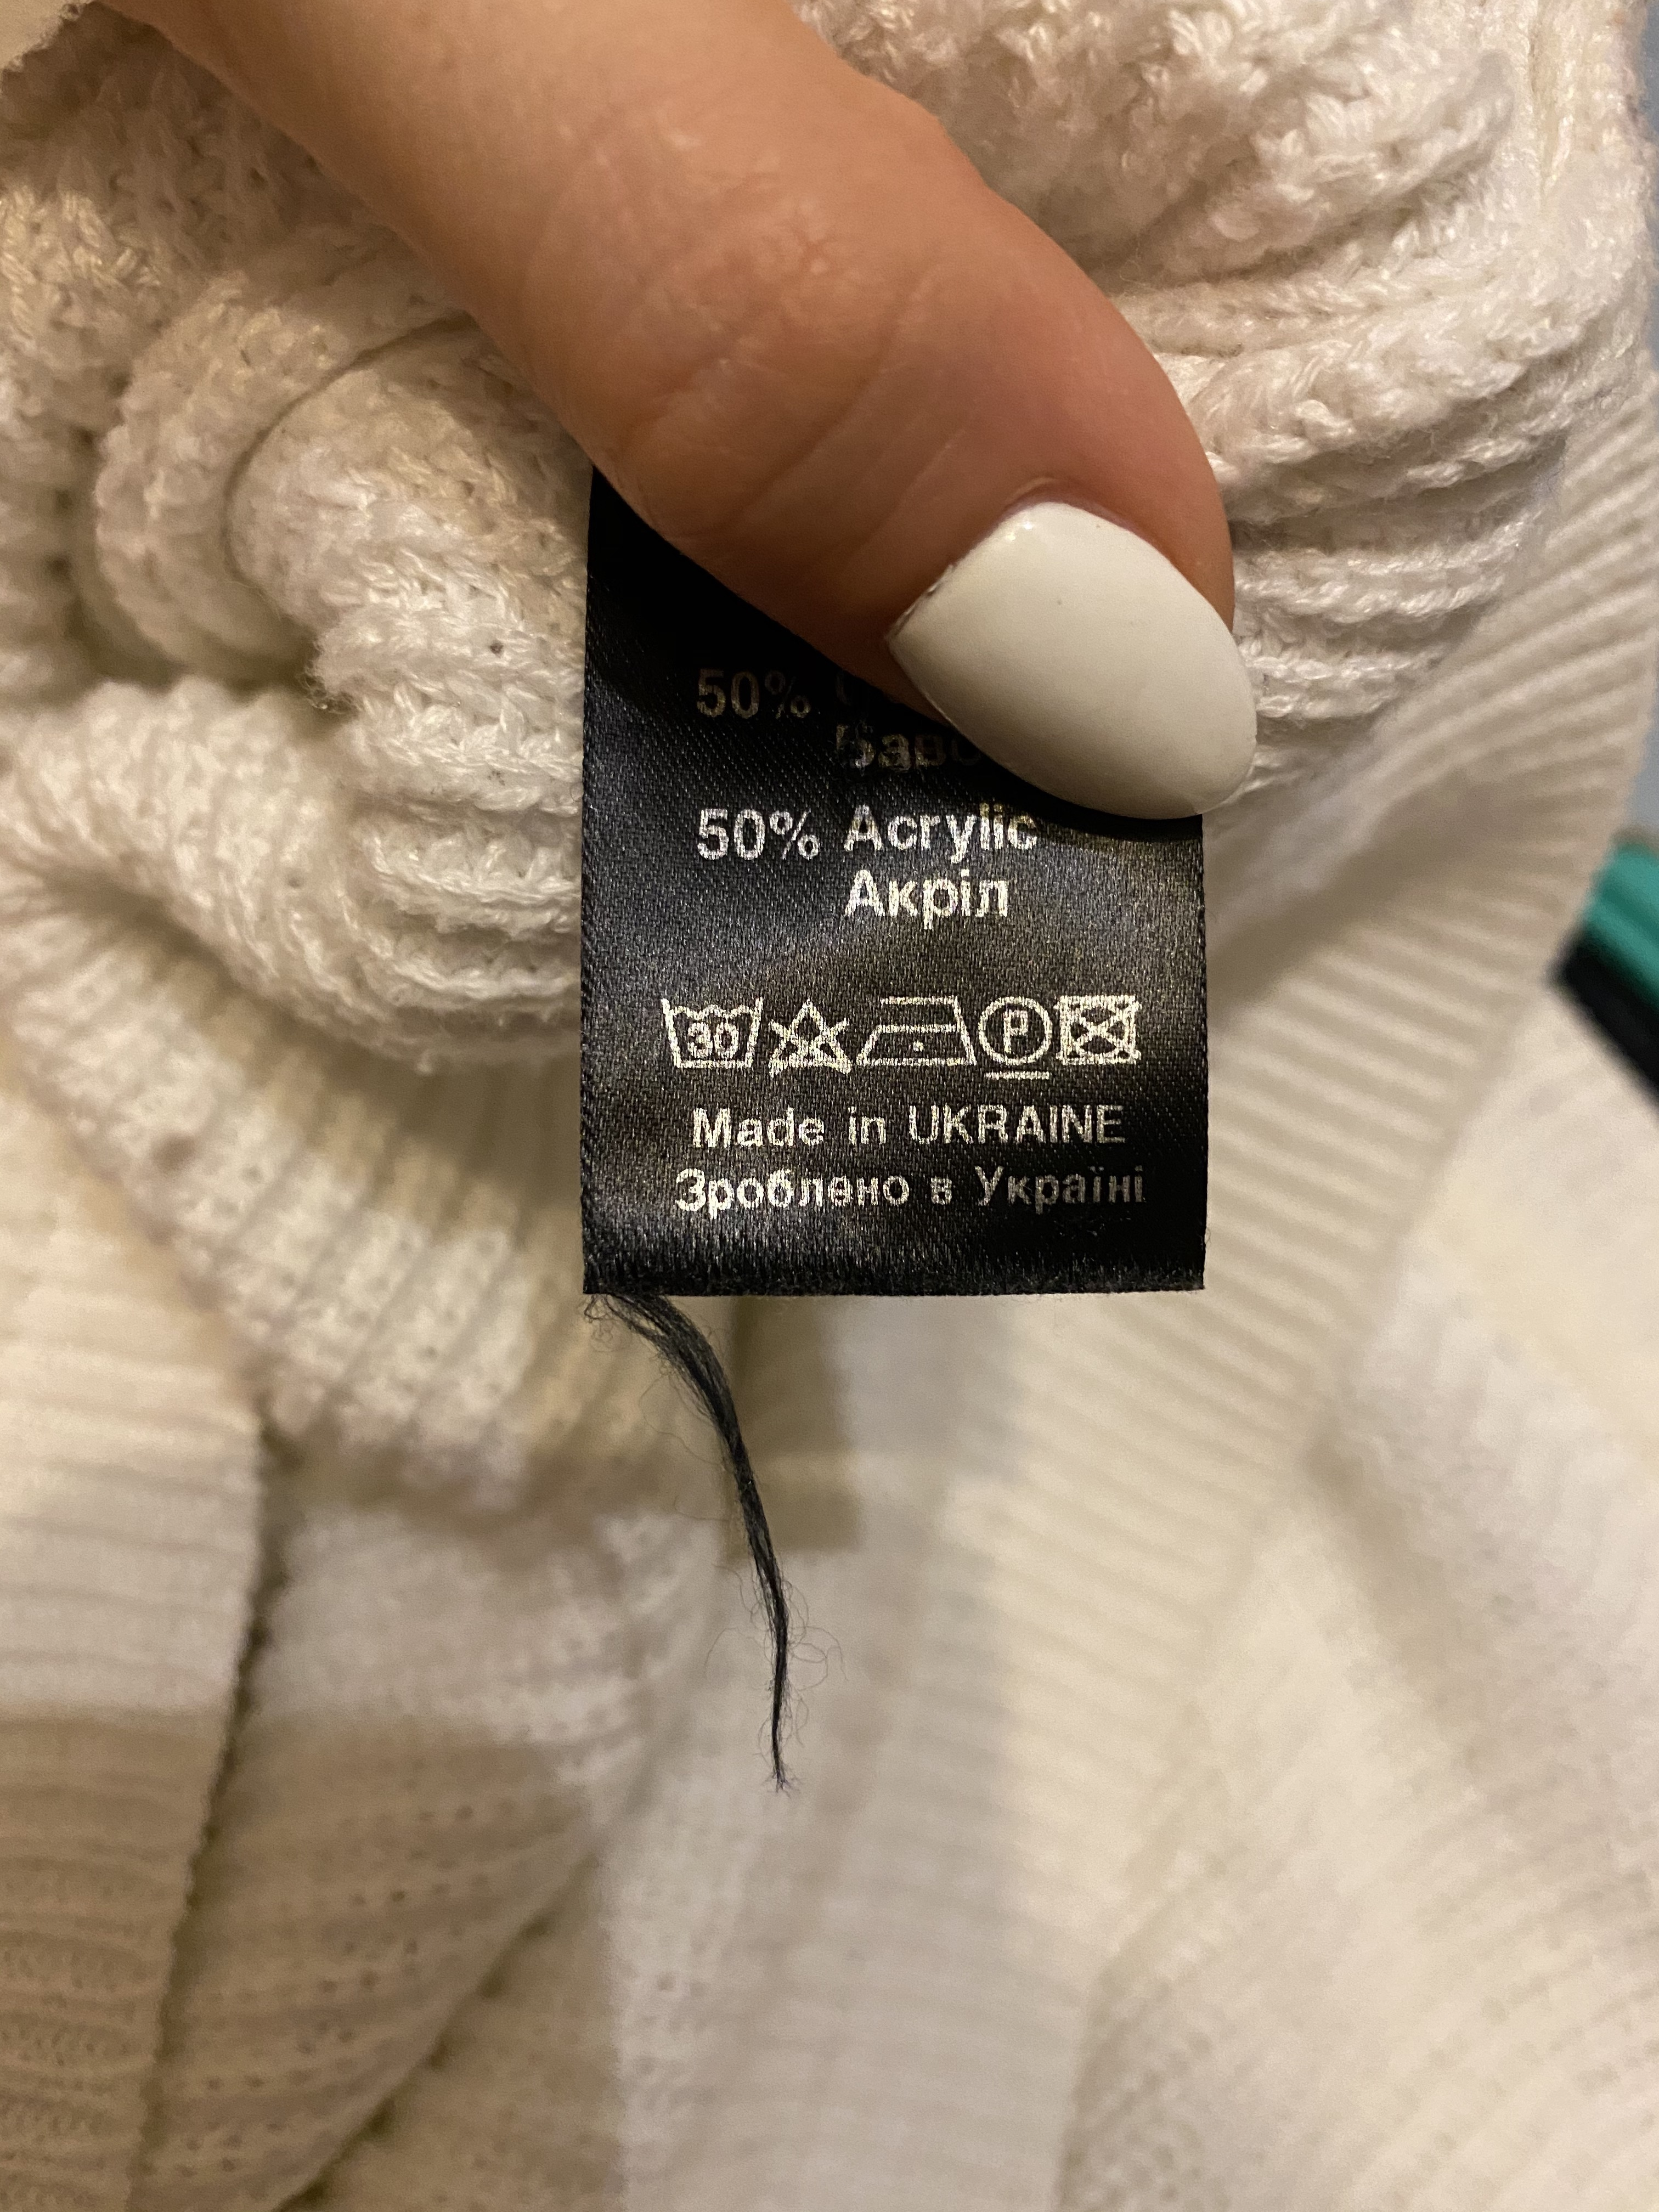do_not_bleach: (765, 993, 854, 1082)
do_not_tumble_drying: (1054, 991, 1147, 1069)
gentle_cleaning_with_pce: (974, 993, 1054, 1082)
ironing_at_low_temp: (854, 993, 978, 1073)
wash_at_or_below_30: (662, 993, 767, 1071)
